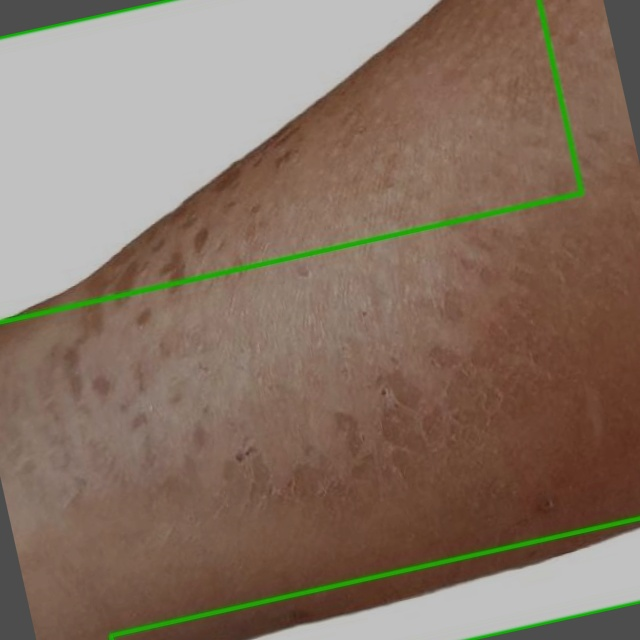Contact Dermatitis: (0, 0, 581, 322)
